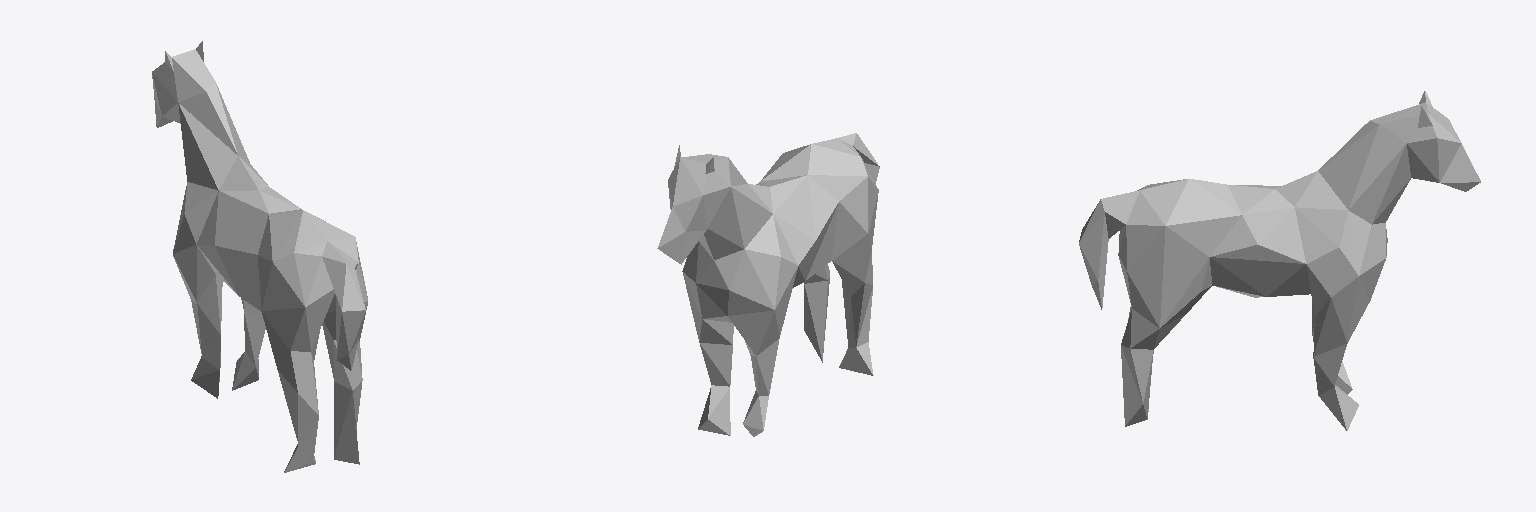
File: cheval246.obj
3 views of the same model, side by side, from view 1: azimuth 30°, elevation 25°; view 2: azimuth 150°, elevation 25°; view 3: azimuth 270°, elevation 25° (orthographic).
Visible parts, largest first — view 1: STL object; view 2: STL object; view 3: STL object.
Part boxes in pixels (x1,y1,x2,y2): STL object: (152,41,367,472); STL object: (657,133,879,436); STL object: (1079,91,1480,430).
Bounding box in the file's own units: 18.99 × 61.14 × 69.94.